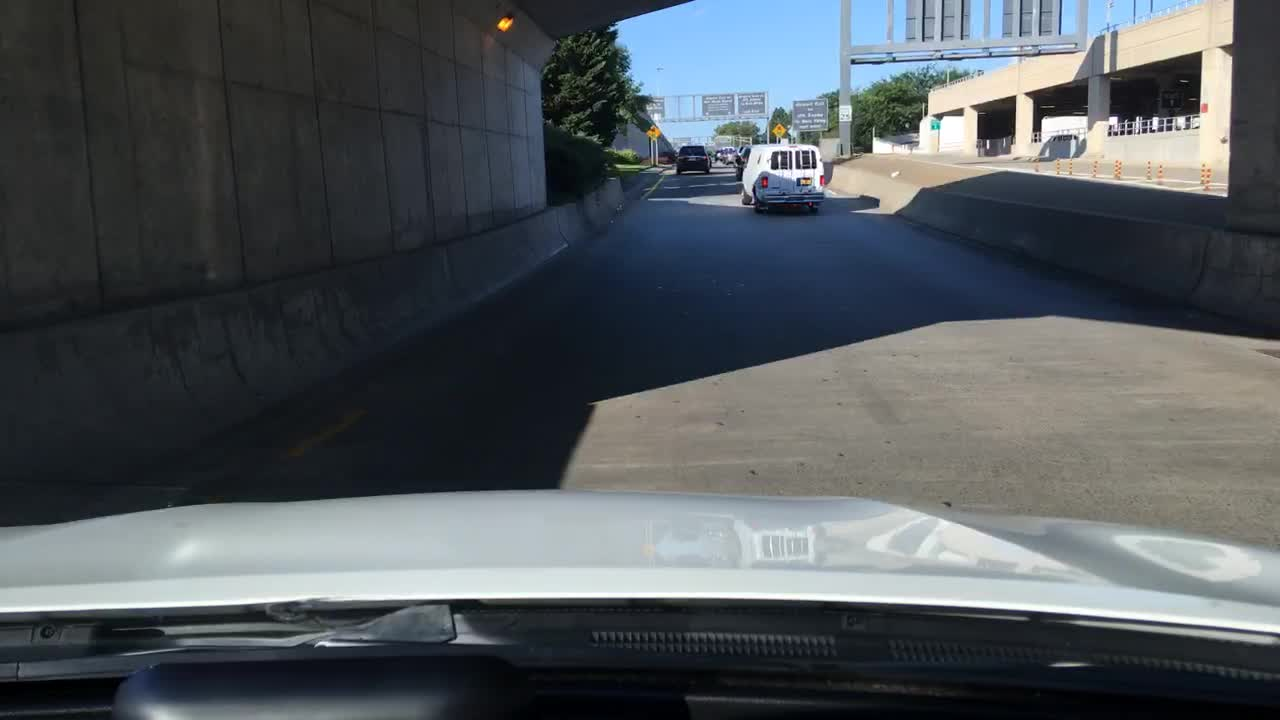car: (740, 142, 826, 214), (675, 144, 711, 175), (735, 145, 752, 182), (717, 146, 734, 162), (732, 135, 753, 147), (722, 150, 737, 166), (714, 150, 722, 162)
traffic sign: (790, 99, 829, 132), (696, 94, 736, 115), (736, 90, 769, 115), (640, 97, 665, 120), (837, 104, 853, 122), (645, 123, 661, 140), (670, 136, 693, 146), (771, 123, 786, 138), (713, 134, 731, 146), (928, 117, 941, 128)
